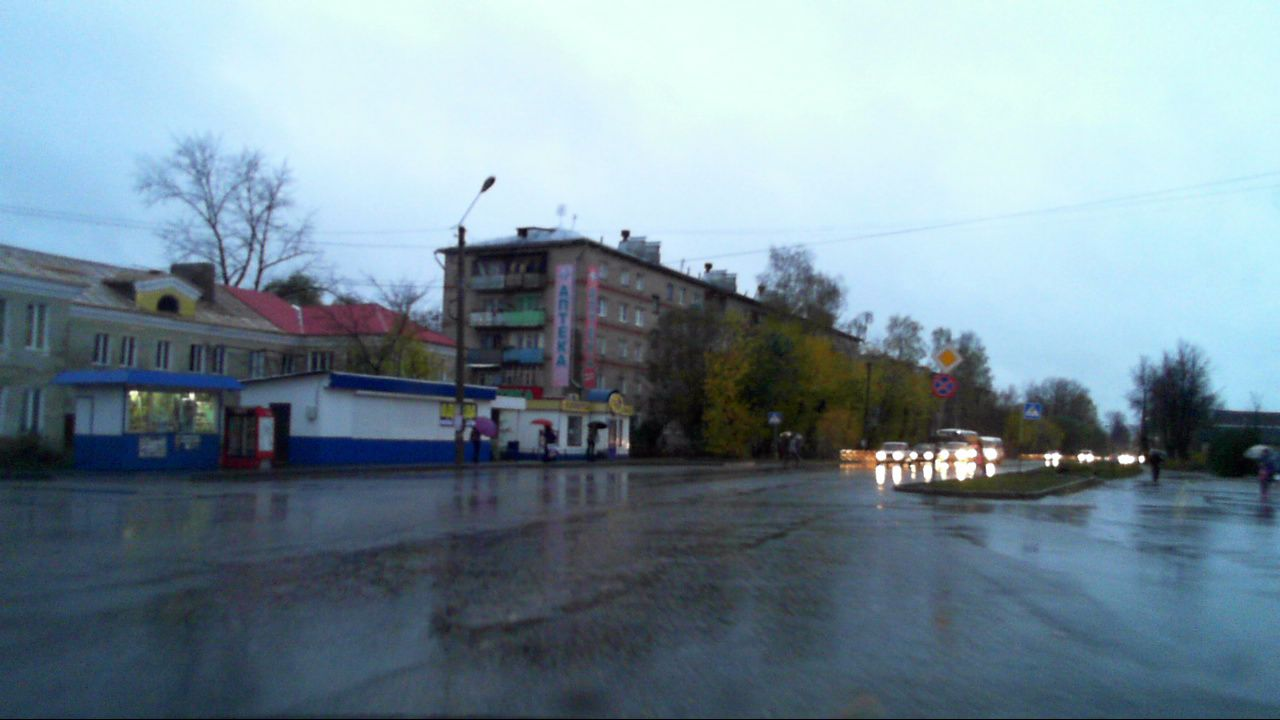No Parking: (930, 372, 958, 398)
